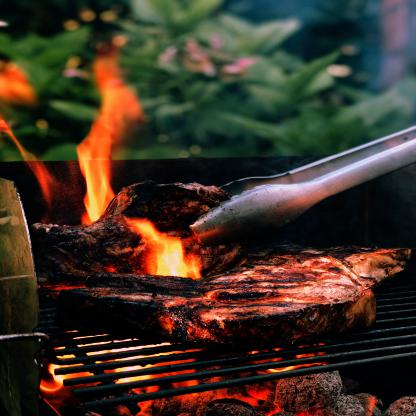Carne: (184, 249, 372, 340)
